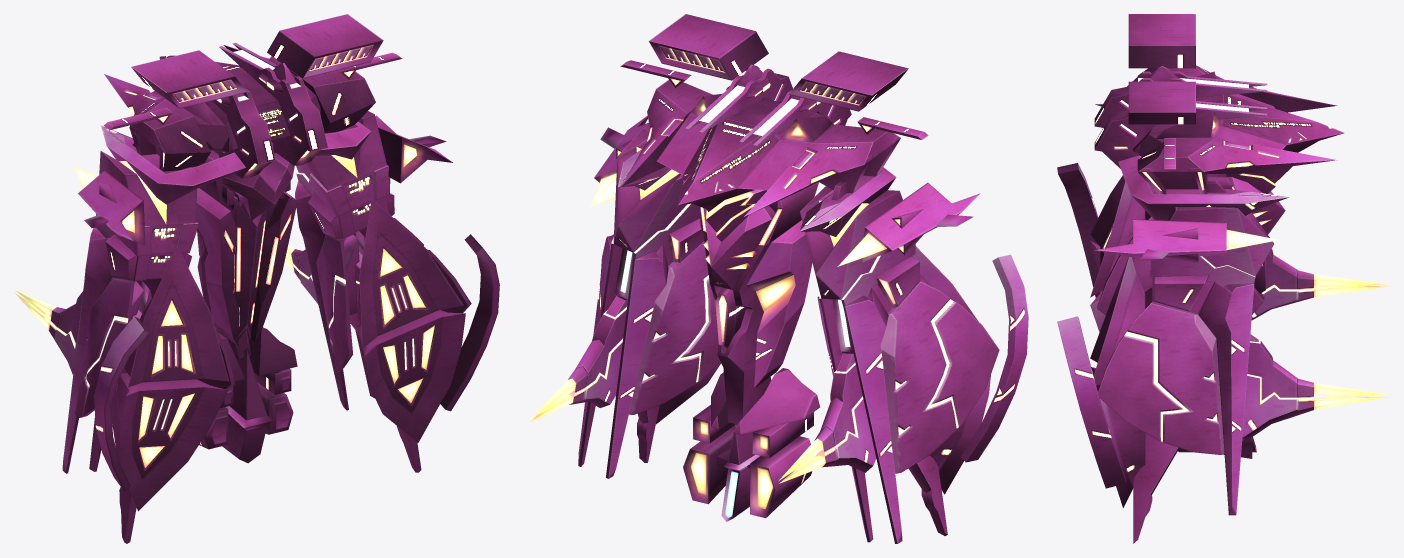
3 renders of one model, left to right at view 1: azimuth 30°, elevation 25°; view 2: azimuth 150°, elevation 25°; view 3: azimuth 270°, elevation 25°, orthographic. The views are drawn at different scales.
Parts seen in each view (by area): view 1: body; view 2: body; view 3: body.
Boxes of the visible parts, <box> form: body: <box>14,14,499,543</box>; body: <box>529,14,1028,543</box>; body: <box>1057,14,1389,543</box>.
Size of the model in its own units: 635 by 683 by 498.
Materials: 2 (2 with a texture image).
